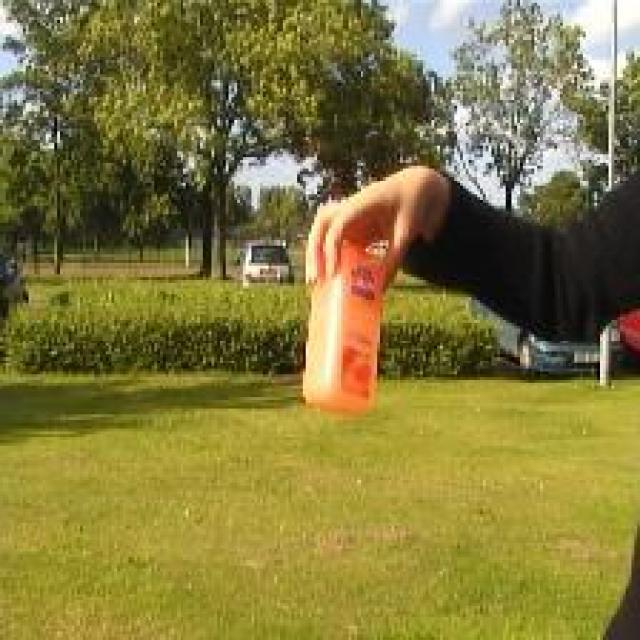other: (294, 227, 408, 422)
